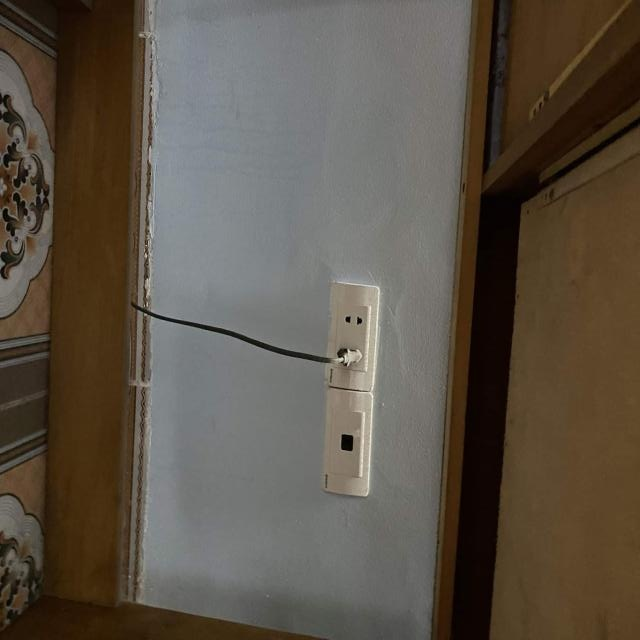outlet: (326, 281, 380, 391), (323, 387, 374, 497)
